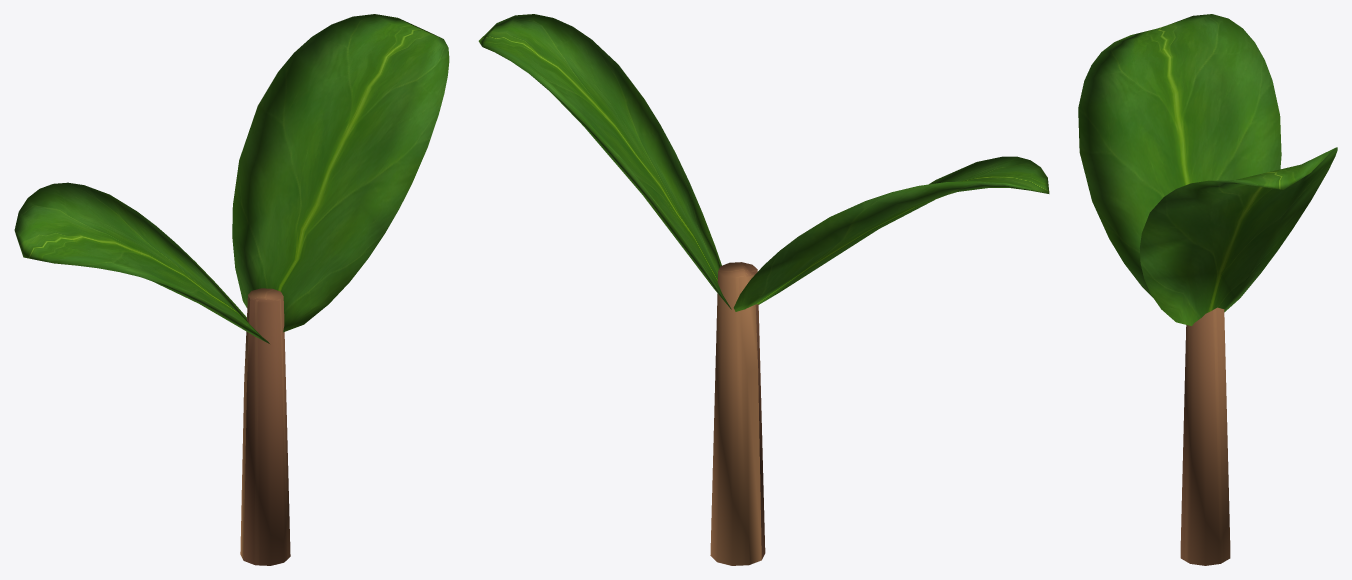
File: NP_Blueberry_Sprout_LOD1.fbx
The picture shows the model from 3 angles, left to right: view 1: azimuth 30°, elevation 25°; view 2: azimuth 150°, elevation 25°; view 3: azimuth 270°, elevation 25°; orthographic projection. The views are drawn at different scales.
Visible parts, largest first — view 1: NP_Blueberry_Sprout; view 2: NP_Blueberry_Sprout; view 3: NP_Blueberry_Sprout.
Boxes of the visible parts, <box> form: NP_Blueberry_Sprout: <box>14,14,449,565</box>; NP_Blueberry_Sprout: <box>478,14,1049,565</box>; NP_Blueberry_Sprout: <box>1078,14,1337,565</box>.
Size of the model in its own units: 33.96 by 32.22 by 15.84.
